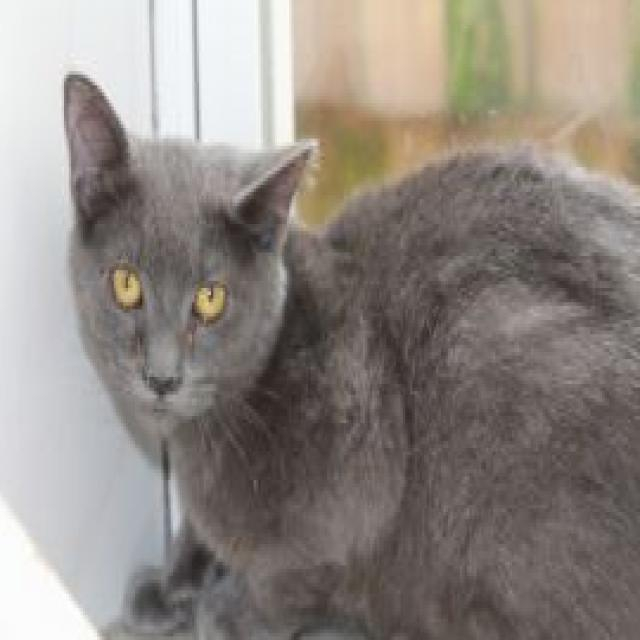Russian Blue: (59, 67, 639, 640)
